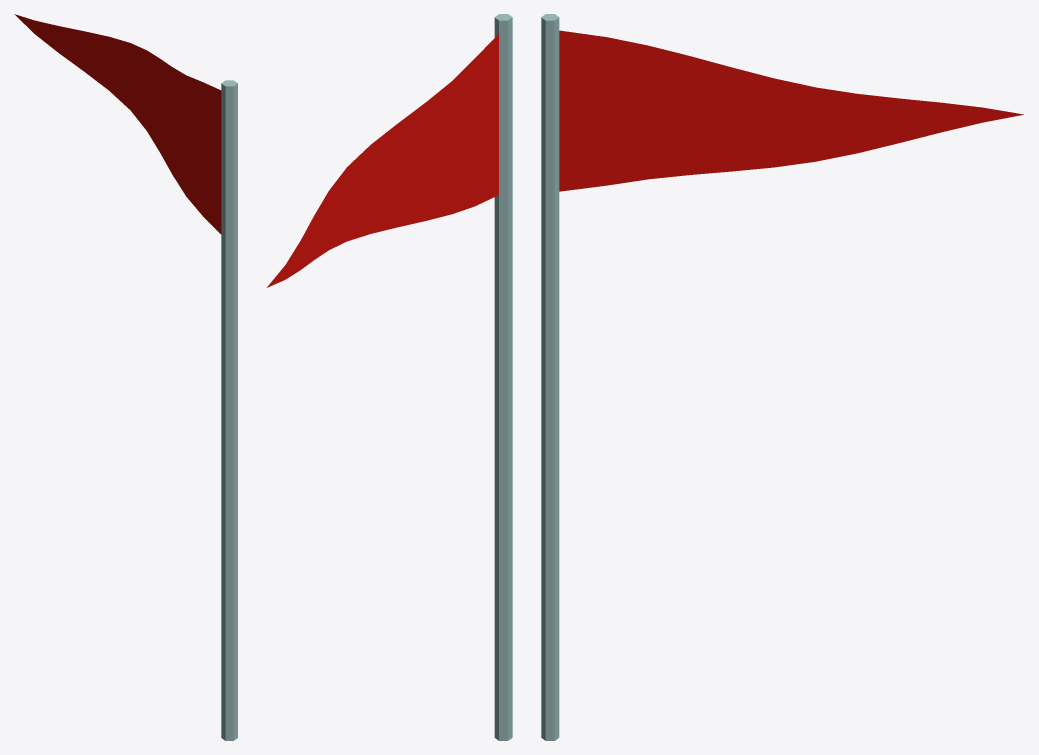
The model's file is Flag.glb.
3 renders of one model, left to right at view 1: azimuth 30°, elevation 25°; view 2: azimuth 150°, elevation 25°; view 3: azimuth 270°, elevation 25°, orthographic. The views are drawn at different scales.
Parts seen in each view (by area): view 1: Plane; view 2: Plane; view 3: Plane.
Boxes of the visible parts, x1,y1,x2,y2 form: Plane: [14, 14, 237, 740]; Plane: [267, 14, 512, 740]; Plane: [541, 14, 1023, 740].
Size of the model in its own units: 0.5578 by 12.55 by 7.64.
